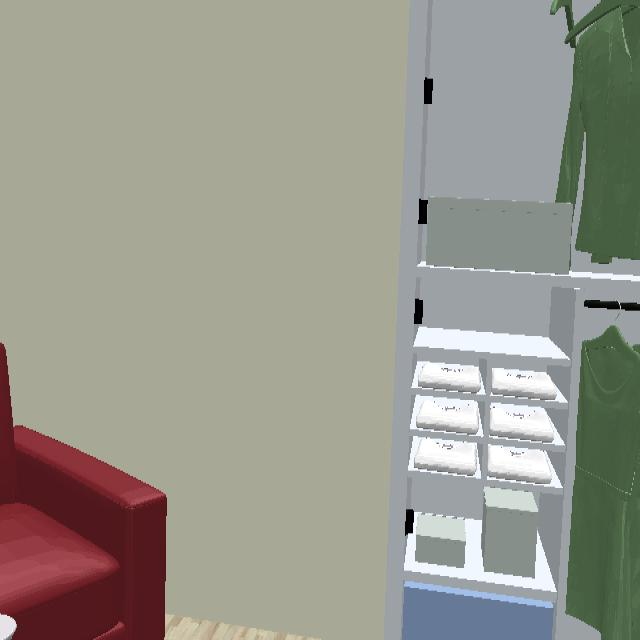sofa: (0, 344, 167, 640)
wardrobe: (384, 0, 640, 640)
